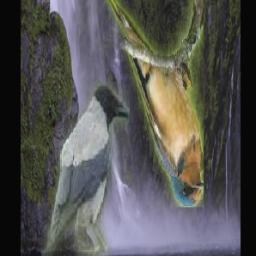Crow: (42, 82, 131, 256)
Swallow: (104, 0, 204, 208)
